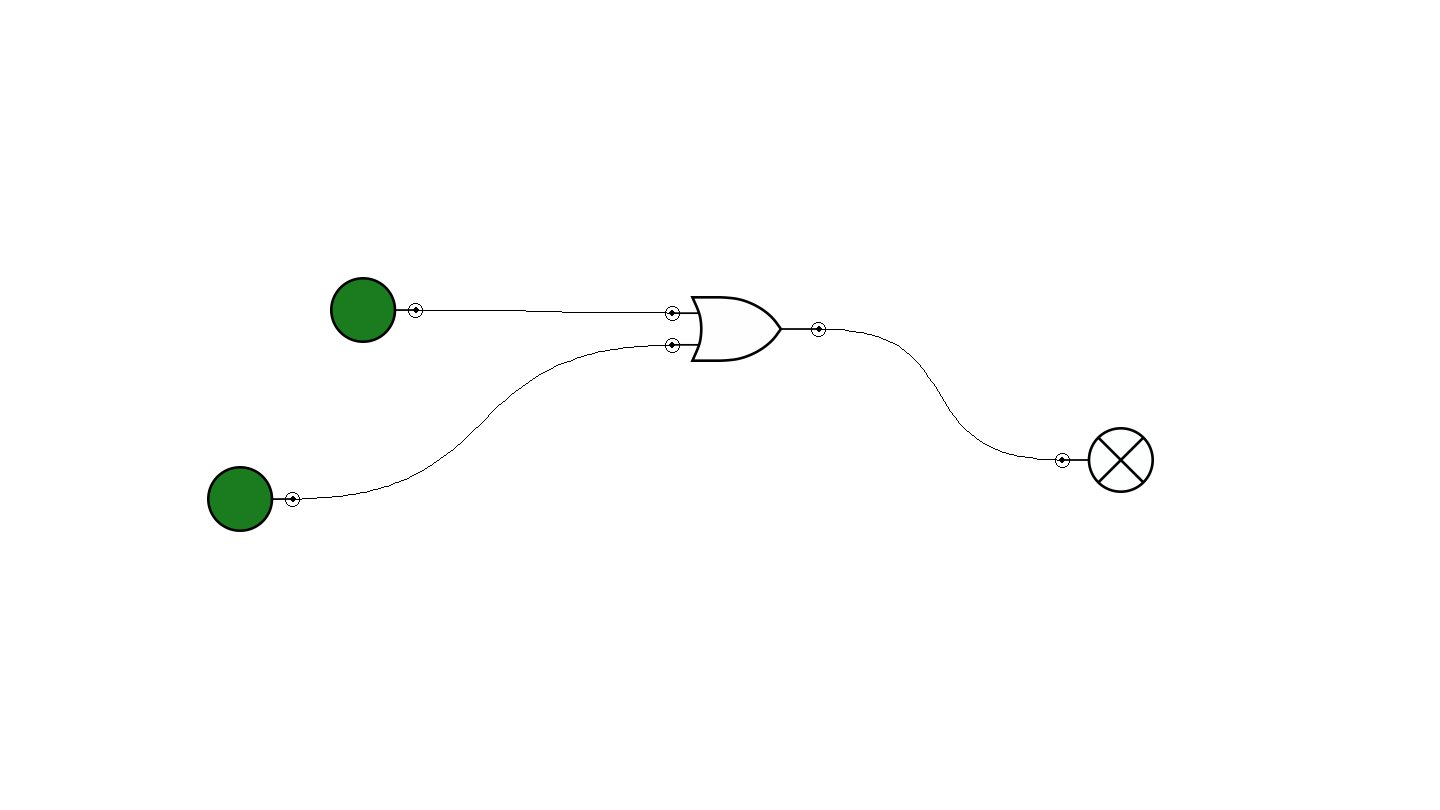bulb: (1055, 427, 1154, 493)
or: (665, 296, 826, 362)
switch_True: (207, 466, 300, 532), (330, 277, 423, 343)
